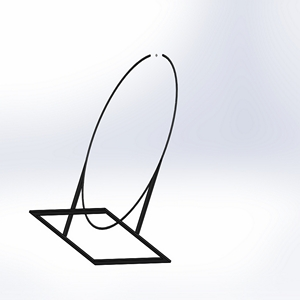circle: (28, 50, 179, 267)
